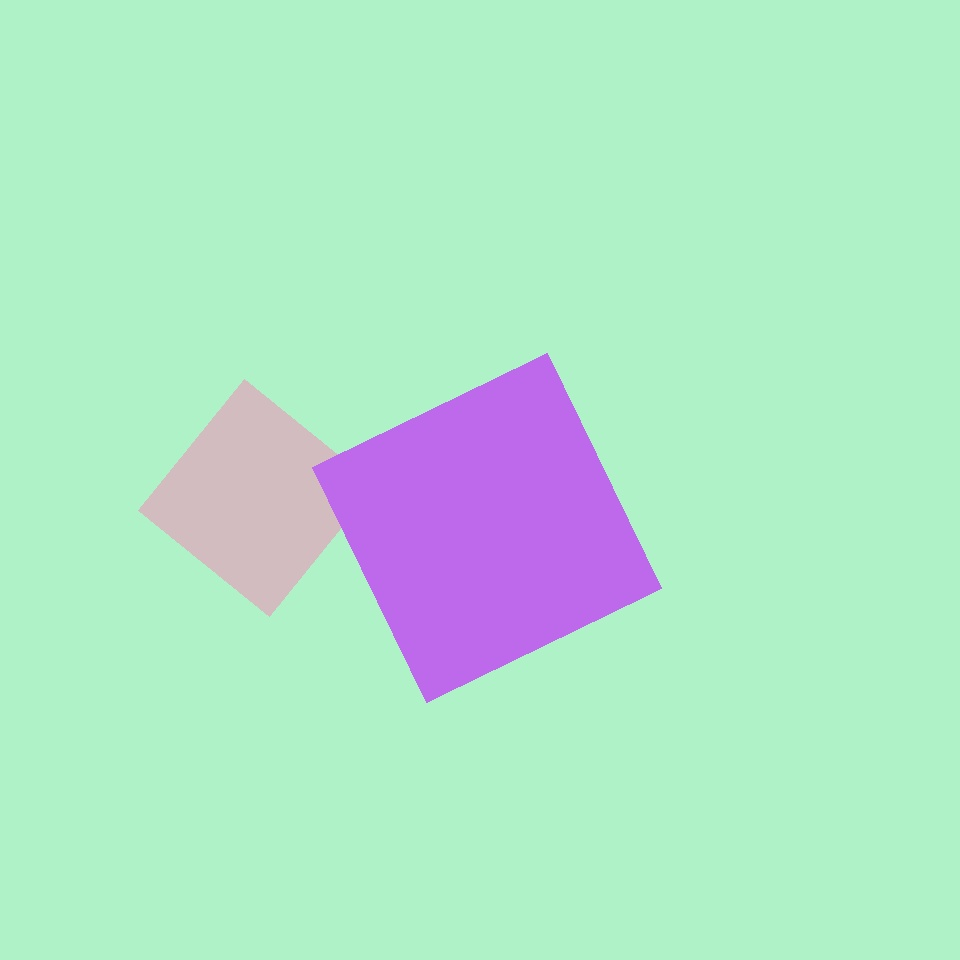circle: (282, 258, 513, 475)
square: (313, 354, 662, 702), (587, 623, 869, 905), (138, 380, 376, 616)
